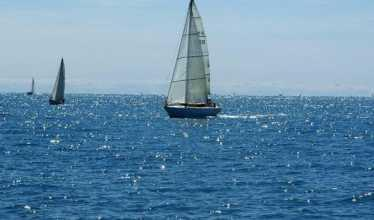fanchuan: (158, 1, 221, 120), (47, 49, 75, 107)
